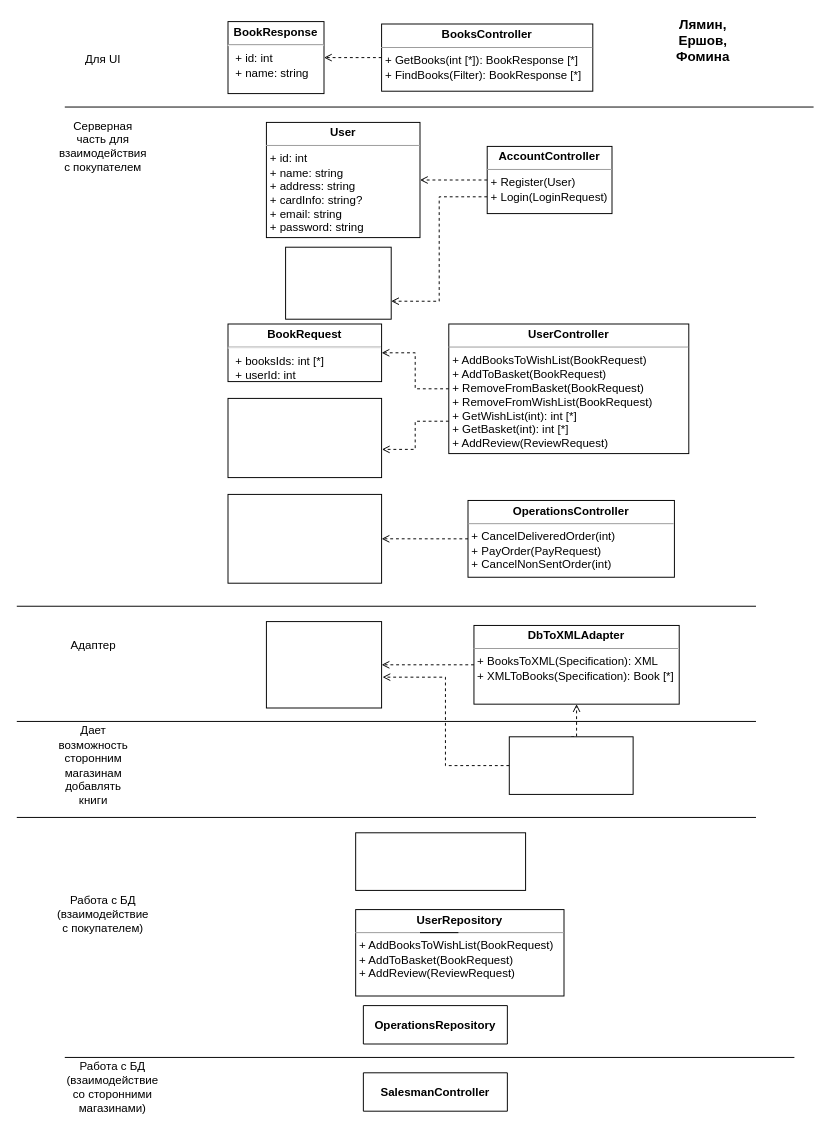
This 830x1131 diagram has some shape labels left out. Here are the shapes that lost their labels. From the top down, the centre of each, then its label:
the point at 338,282: LoginRequest + email: string + password: string
the point at 304,437: PayRequest + booksIds: int [*] + userId: int + cardInfo: string
the point at 304,538: ReviewRequest + bookId: int + userId: int + review: string + rating: int
the point at 323,664: Book + id: int + name: string + description: string + price: int
the point at 570,765: SalesmenController + AddBooks(XML)
the point at 440,861: AccountRepository + AddUser(User)
